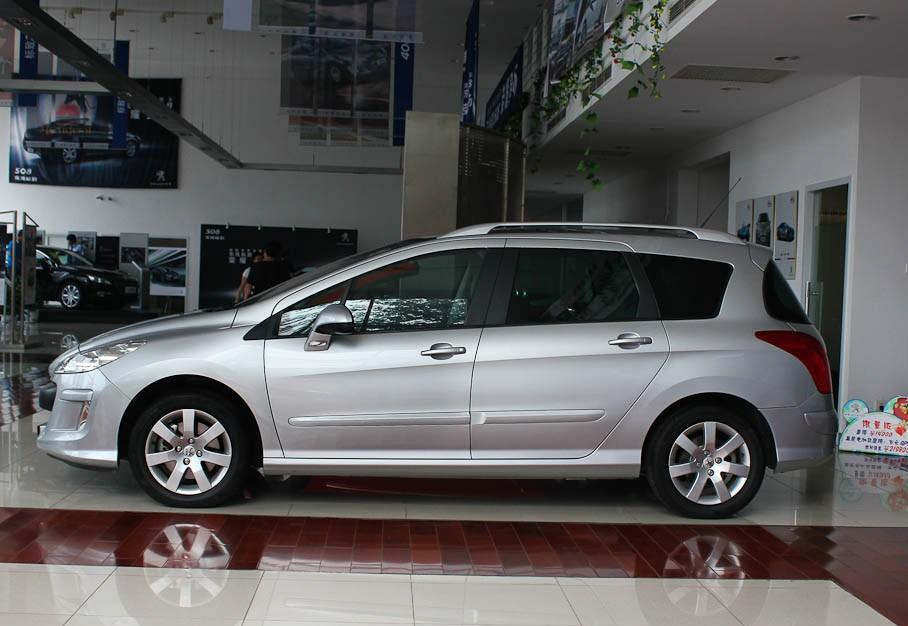Wagon: (37, 223, 838, 519)
